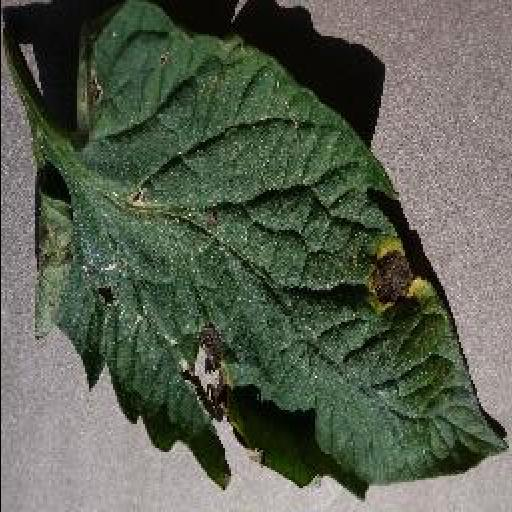Early Blight: (28, 0, 508, 501)
